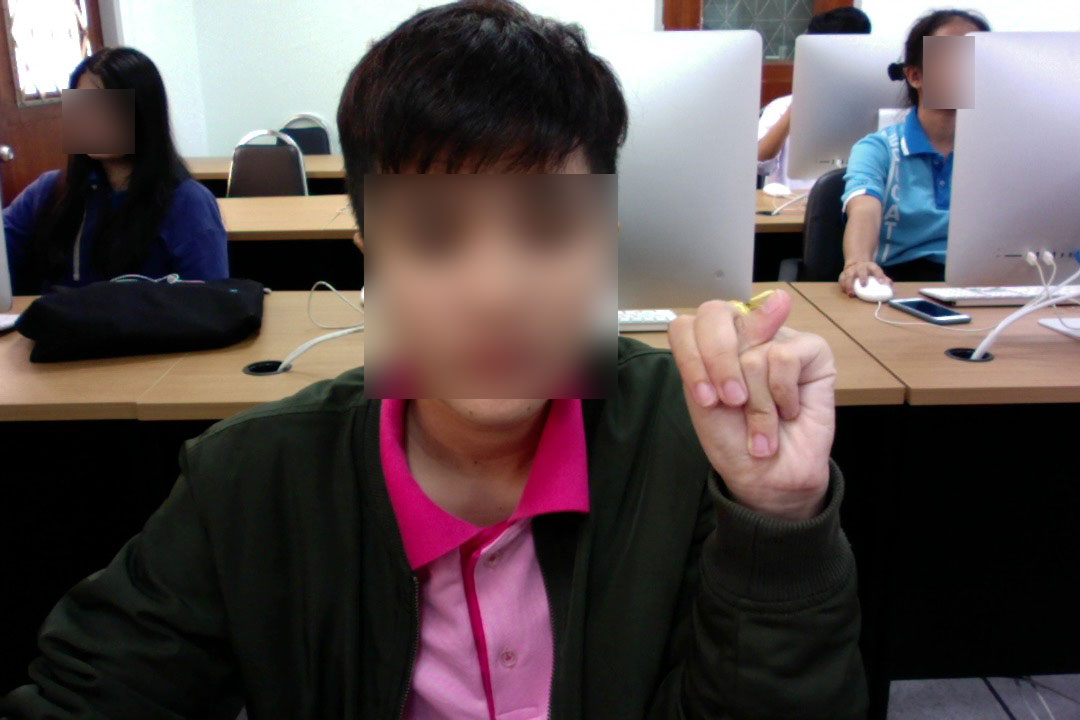nor: (657, 280, 853, 530)
